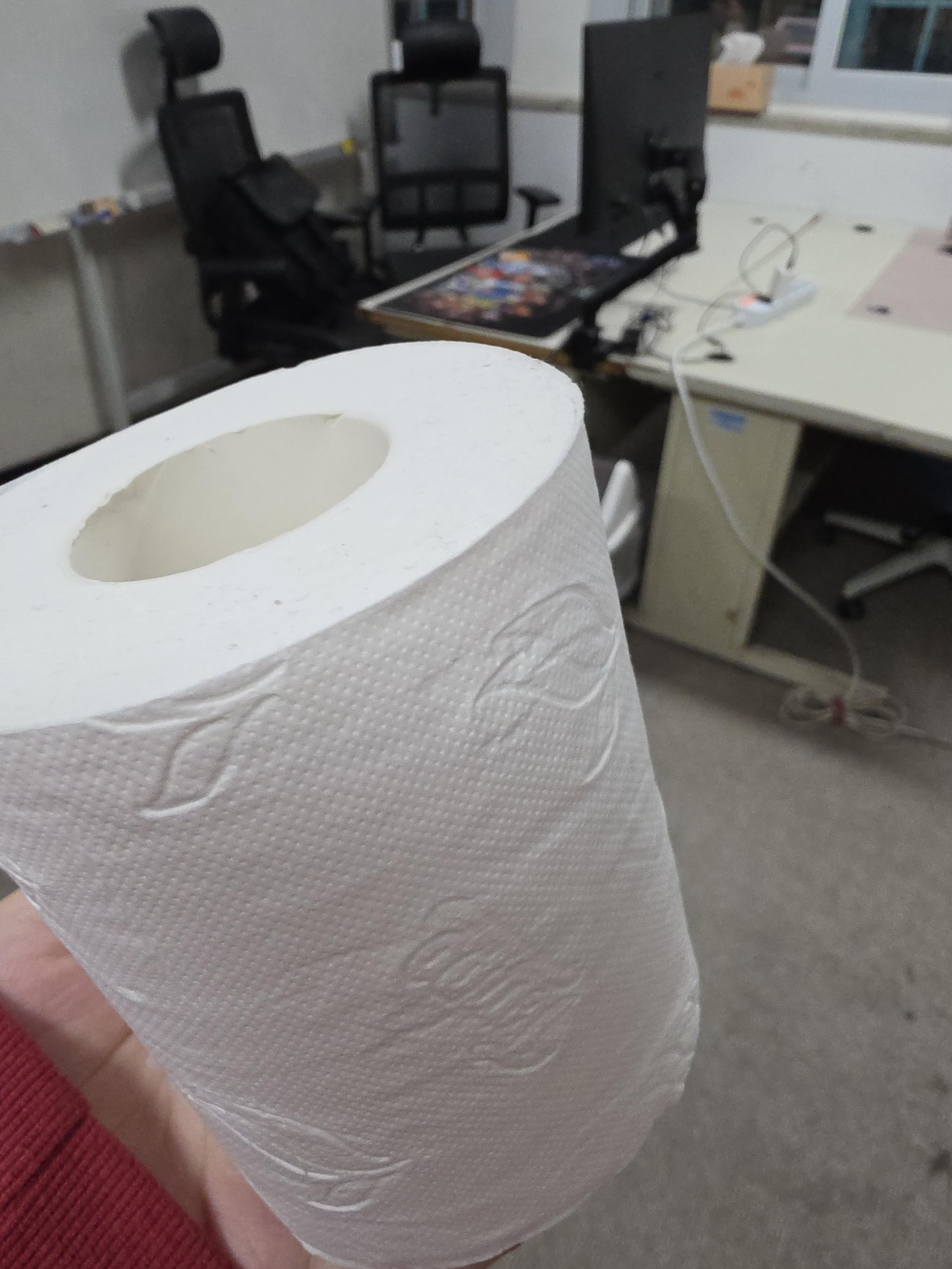tissue: (0, 339, 701, 1268), (707, 30, 774, 113)
